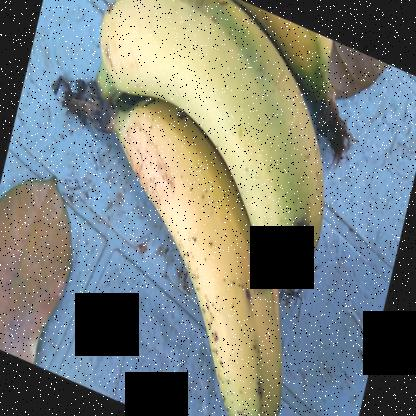freshripe: (105, 1, 318, 276)
ripe: (115, 95, 278, 416)
